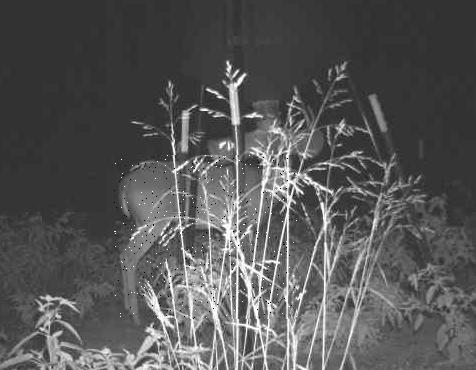Deer: (115, 156, 298, 320)
